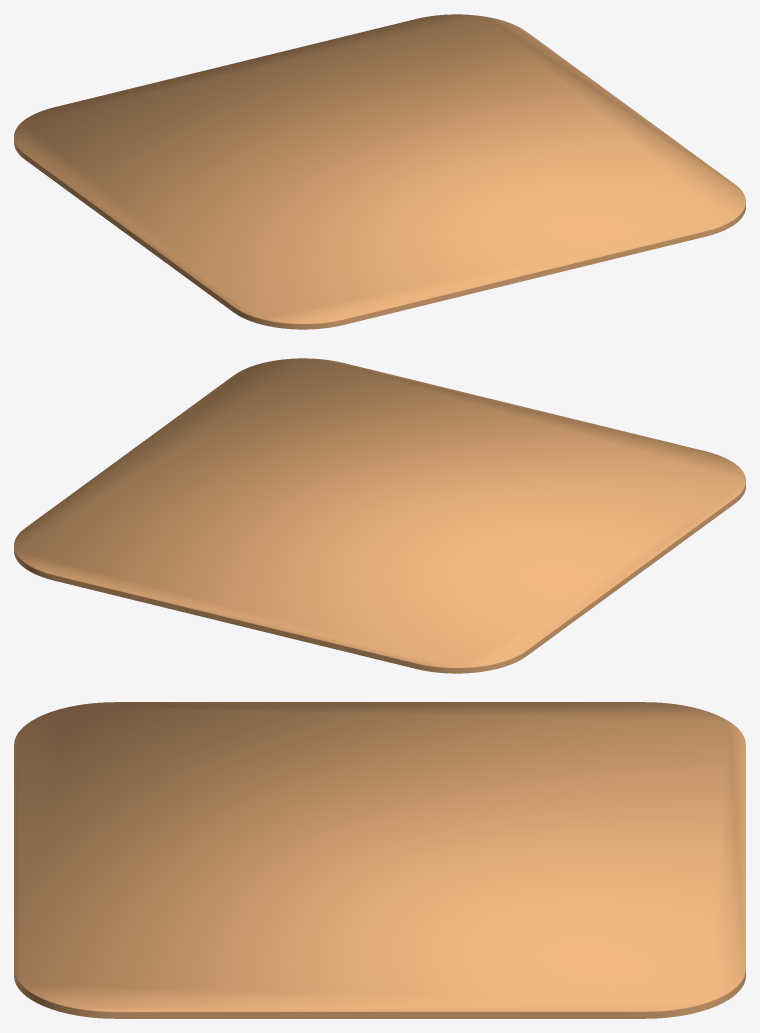
Rendered from explore_ground.glb.
3 renders of one model, top to bottom at view 1: azimuth 30°, elevation 25°; view 2: azimuth 150°, elevation 25°; view 3: azimuth 270°, elevation 25°, orthographic. The views are drawn at different scales.
Parts seen in each view (by area): view 1: field_slab; view 2: field_slab; view 3: field_slab.
Boxes of the visible parts, box(x1,y1,x2,y2) form: field_slab: box(14, 14, 745, 329); field_slab: box(14, 358, 745, 673); field_slab: box(14, 702, 745, 1018).
Size of what is drawn, in the model's own units: 36 by 0.4 by 36.
